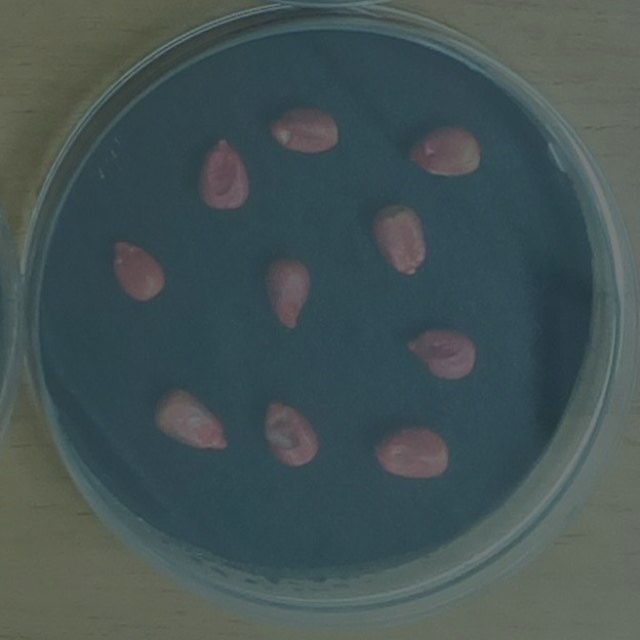Zea mays: (146, 379, 235, 458), (364, 194, 433, 281), (256, 388, 326, 473), (397, 319, 483, 387), (400, 115, 487, 182), (190, 128, 257, 215), (366, 419, 455, 484), (256, 249, 317, 337), (259, 98, 344, 158), (105, 229, 170, 304)
